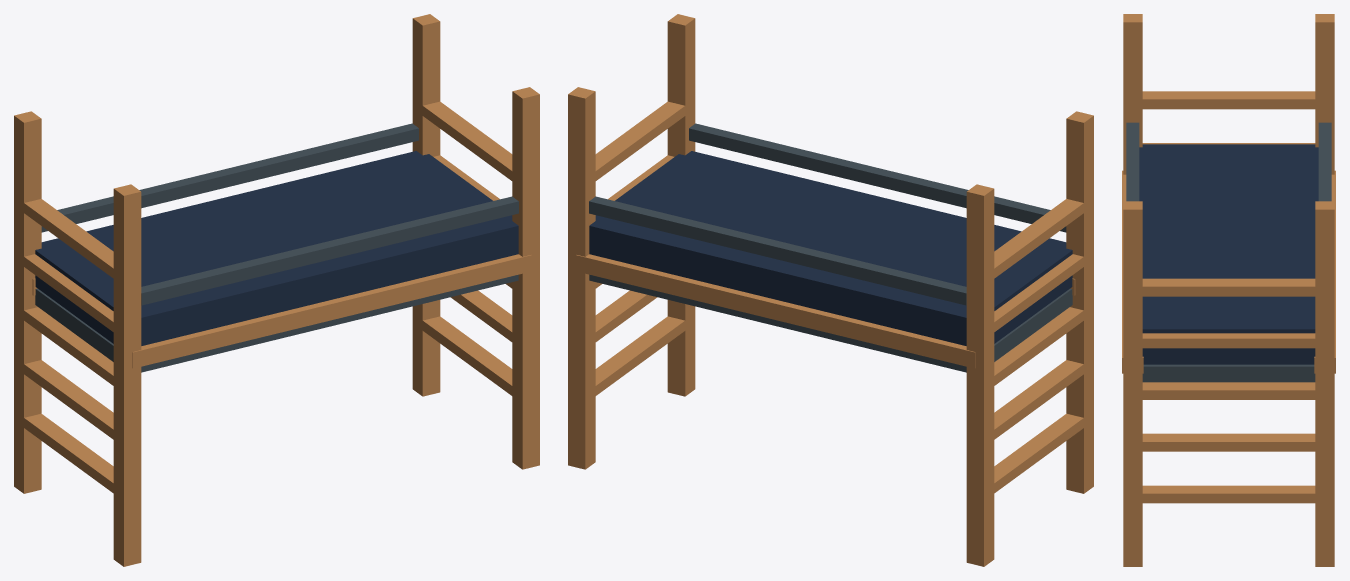
File: loft_bed_3-Gi9H-qqf.glb
3 renders of one model, left to right at view 1: azimuth 30°, elevation 25°; view 2: azimuth 150°, elevation 25°; view 3: azimuth 270°, elevation 25°, orthographic. The views are drawn at different scales.
Bounding box in the file's own units: 2.15 × 1.83 × 0.9911.
